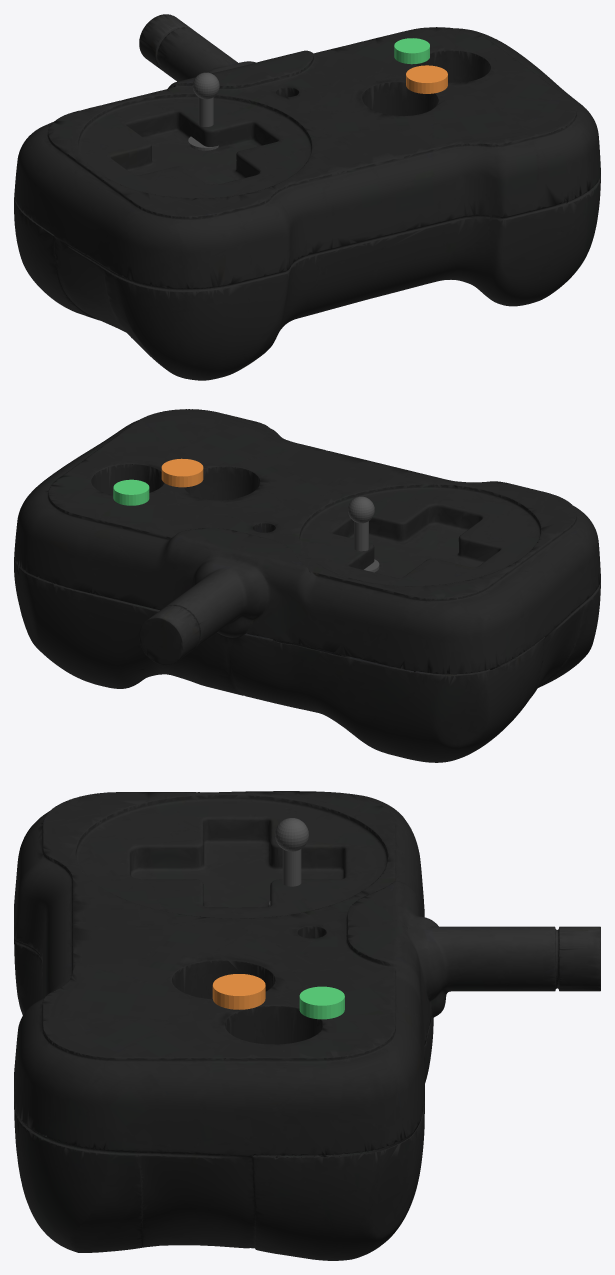
The model's file is rc_controller.glb.
3 views of the same model, one above another, from view 1: azimuth 30°, elevation 25°; view 2: azimuth 150°, elevation 25°; view 3: azimuth 270°, elevation 25° (orthographic). The views are drawn at different scales.
Visible parts, largest first — view 1: controller_body, joystick, btn_boost, btn_jump; view 2: controller_body, joystick, btn_boost, btn_jump; view 3: controller_body, btn_boost, joystick, btn_jump.
Boxes of the visible parts, left/top/right/bottom form: controller_body: left=14, top=14, right=600, bottom=380; joystick: left=188, top=72, right=219, bottom=150; btn_boost: left=406, top=65, right=447, bottom=93; btn_jump: left=394, top=38, right=429, bottom=64; controller_body: left=14, top=409, right=600, bottom=762; joystick: left=348, top=496, right=379, bottom=572; btn_boost: left=161, top=458, right=203, bottom=487; btn_jump: left=113, top=479, right=149, bottom=505; controller_body: left=14, top=791, right=600, bottom=1260; btn_boost: left=212, top=974, right=265, bottom=1009; joystick: left=269, top=818, right=308, bottom=906; btn_jump: left=299, top=986, right=344, bottom=1019.
Size of the model in its own units: 1.9 by 0.8172 by 1.56.
Materials: 4 (1 with a texture image).
